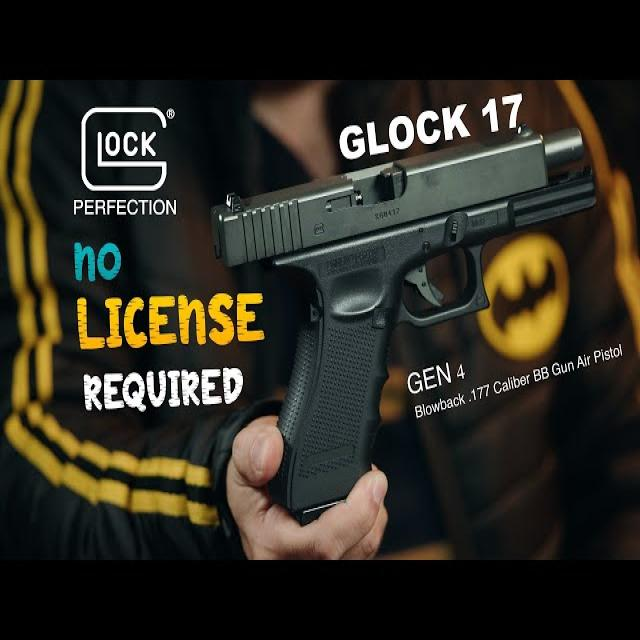HandGun: (211, 128, 598, 516)
